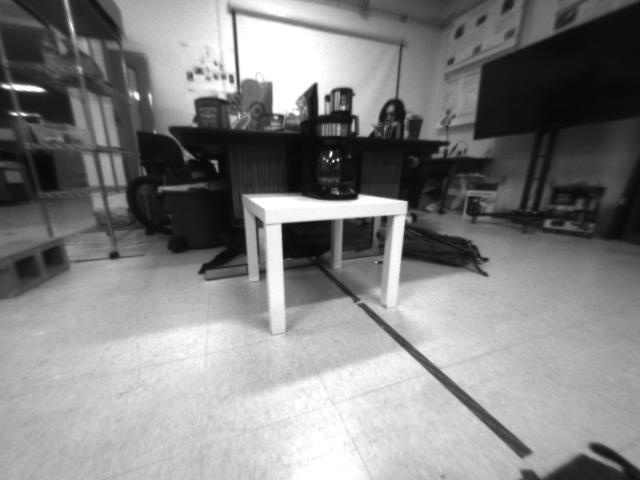coffee_pot: (300, 114, 368, 201)
